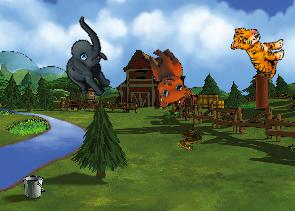bear: (132, 42, 198, 113)
elephant: (43, 15, 132, 104)
tiger: (226, 24, 288, 79)
